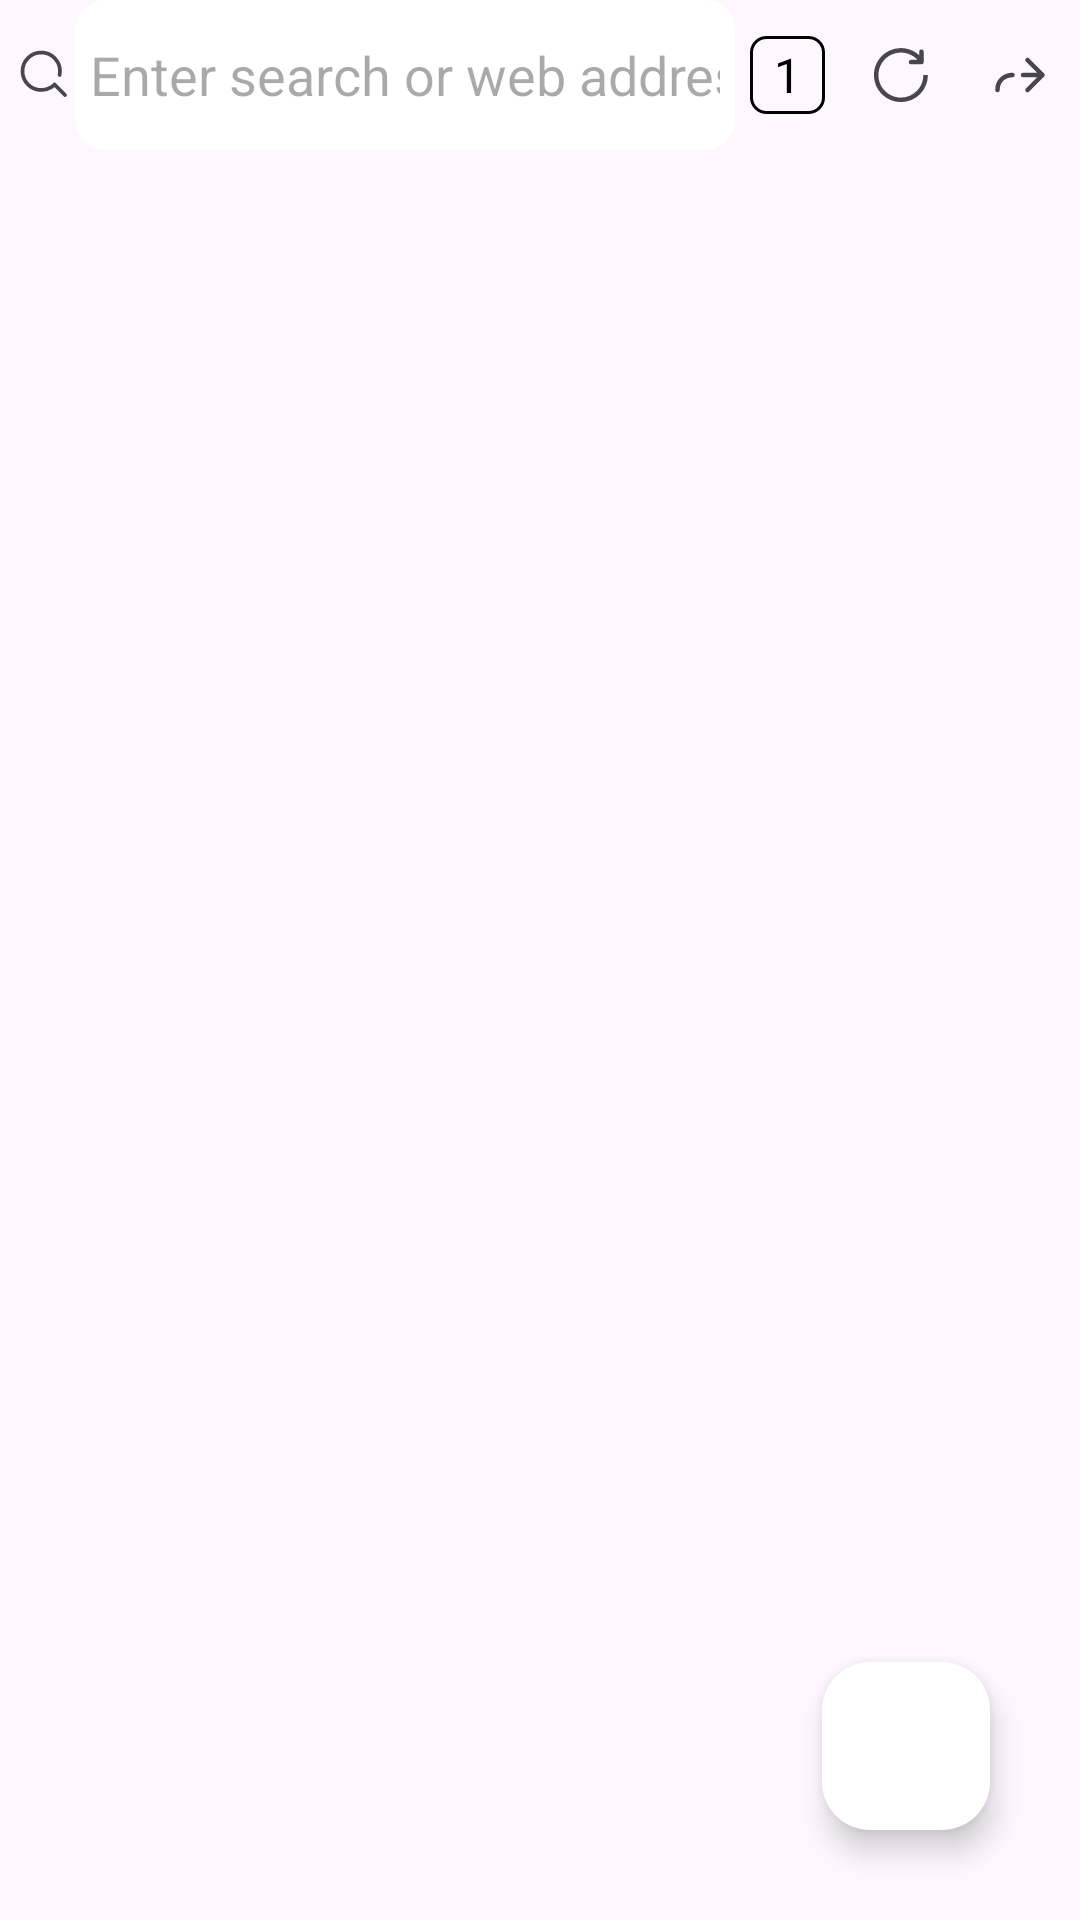

Screen size 1080x1920. Icon name, then its center in pixels as (x,y):
Go button: (1020,75)
Refresh Button: (901,75)
sail search: (43,73)
